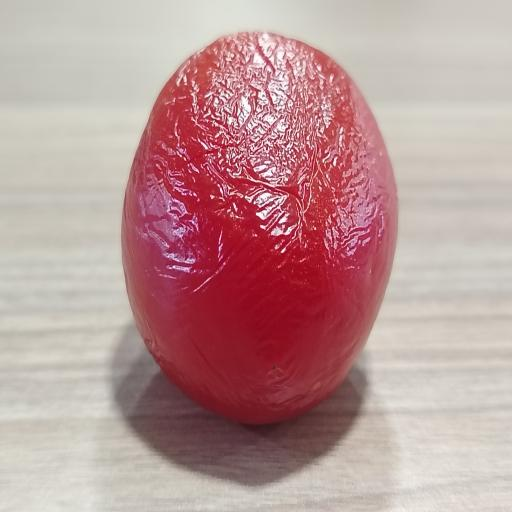spoiled: (122, 32, 397, 423)
